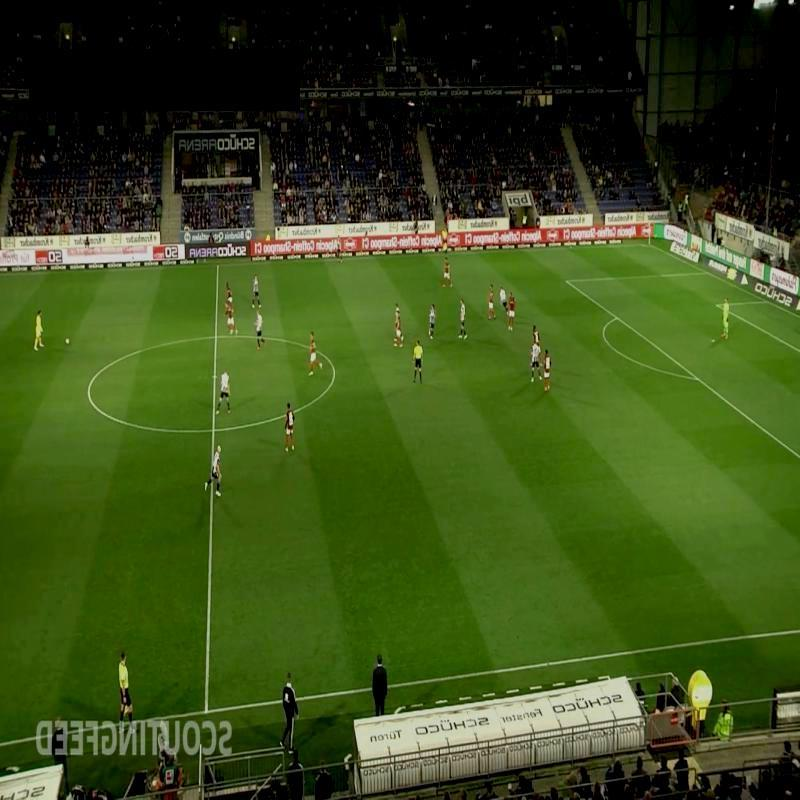1: (642, 238, 656, 252)
10: (606, 308, 626, 328)
11: (689, 370, 706, 388)
13: (211, 258, 225, 272)
14: (208, 328, 224, 345)
15: (206, 422, 220, 436)
16: (196, 701, 214, 723)
2: (700, 265, 714, 279)
3: (758, 291, 777, 310)
7: (708, 299, 722, 312)
9: (558, 272, 576, 290)
c: (326, 362, 344, 382), (82, 384, 97, 397)
